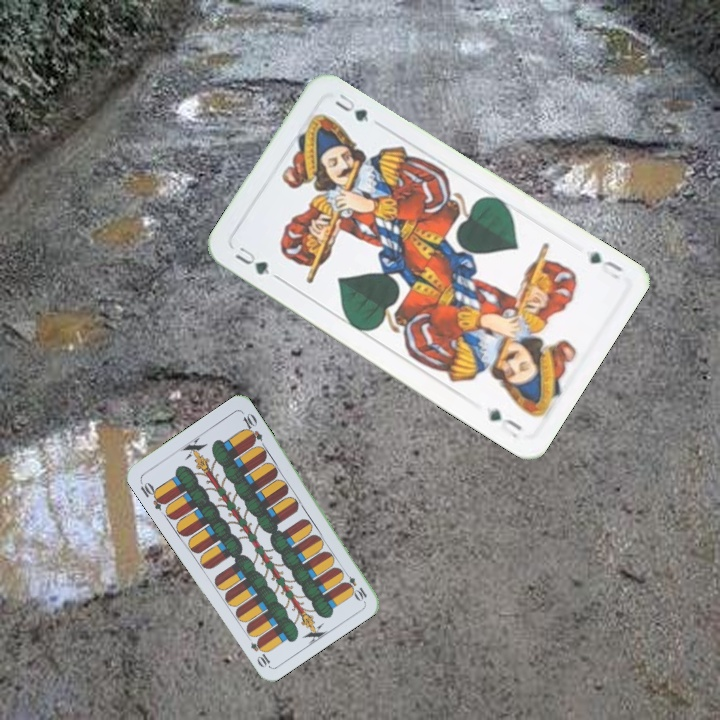E10: (136, 477, 169, 513), (339, 567, 370, 603)
GU: (231, 242, 274, 278), (585, 247, 626, 282)
